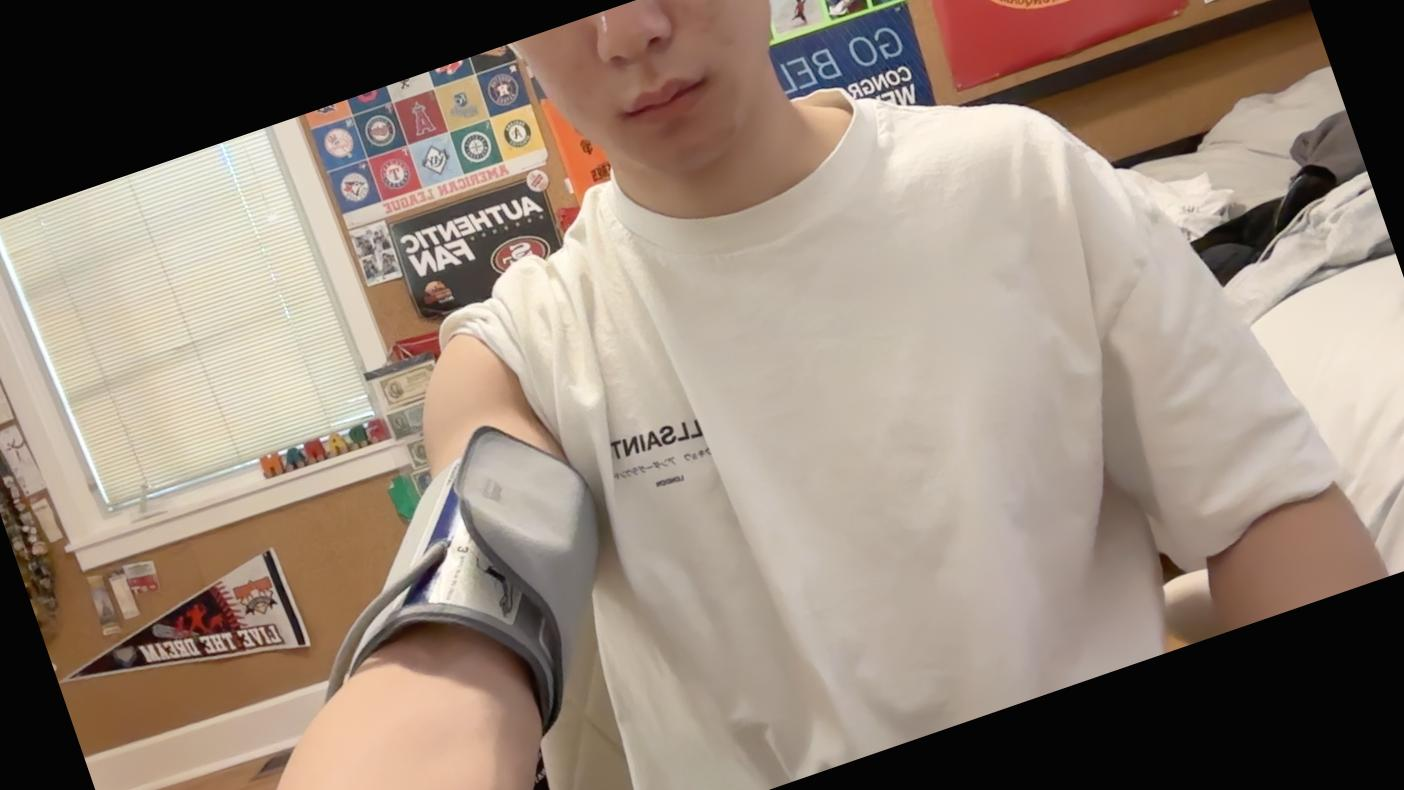cuff: (322, 431, 604, 732)
